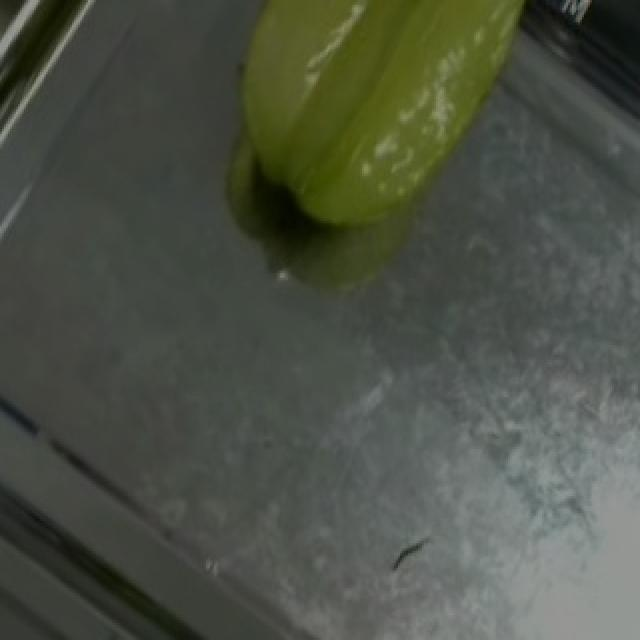fruit: (186, 2, 572, 270)
